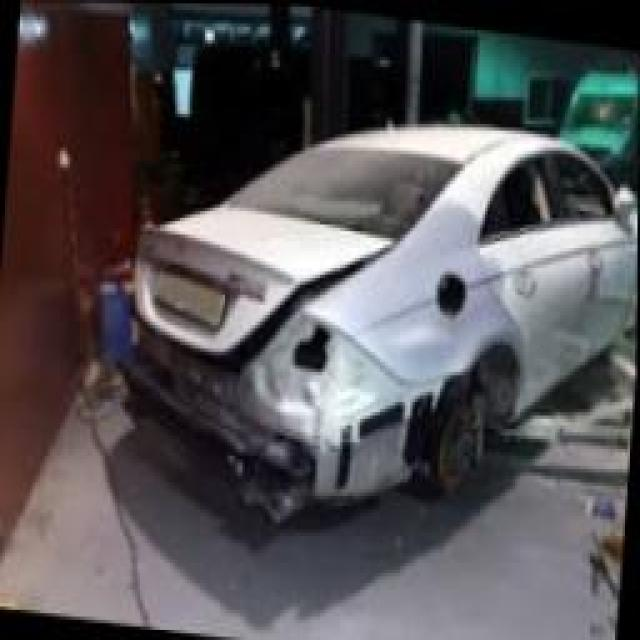Bumper: (126, 335, 440, 502)
Light: (256, 304, 410, 415)
